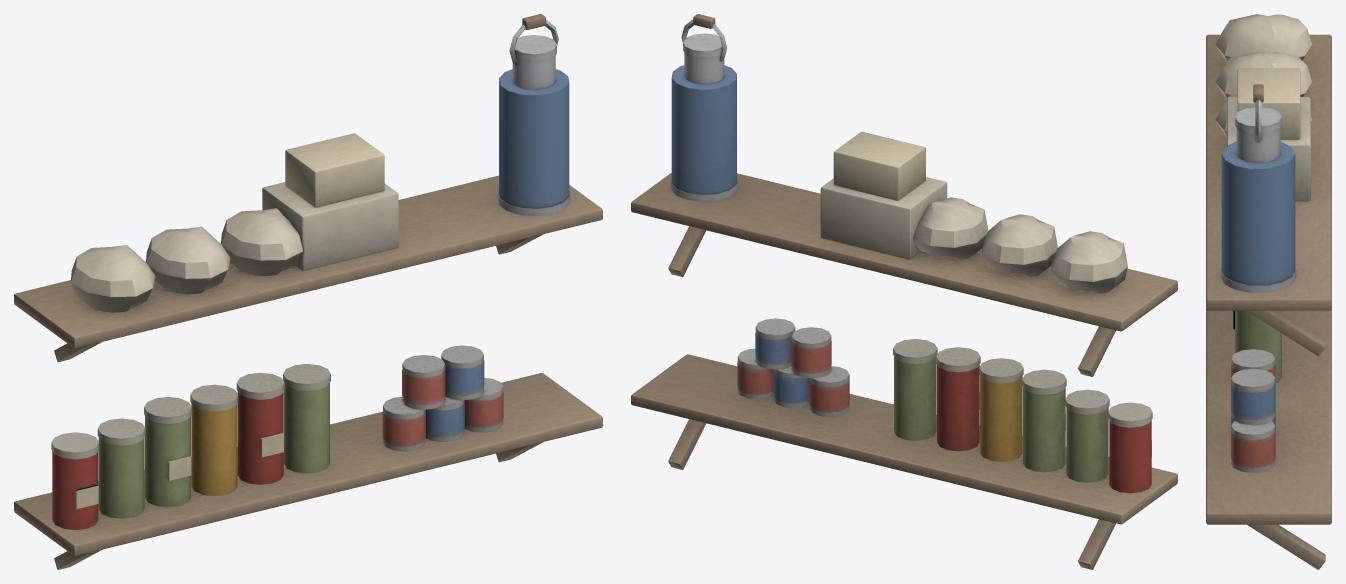
File: shelf_jars.glb
3 renders of one model, left to right at view 1: azimuth 30°, elevation 25°; view 2: azimuth 150°, elevation 25°; view 3: azimuth 270°, elevation 25°, orthographic. The views are drawn at different scales.
Visible parts, largest first — view 1: shelf_jars; view 2: shelf_jars; view 3: shelf_jars.
Part boxes in pixels (box(x1,y1,x2,y2)): shelf_jars: box(14, 14, 602, 569); shelf_jars: box(631, 14, 1177, 569); shelf_jars: box(1206, 14, 1331, 569).
Size of the model in its own units: 1.2 by 1.01 by 0.24.
1 material, 1 textured.
